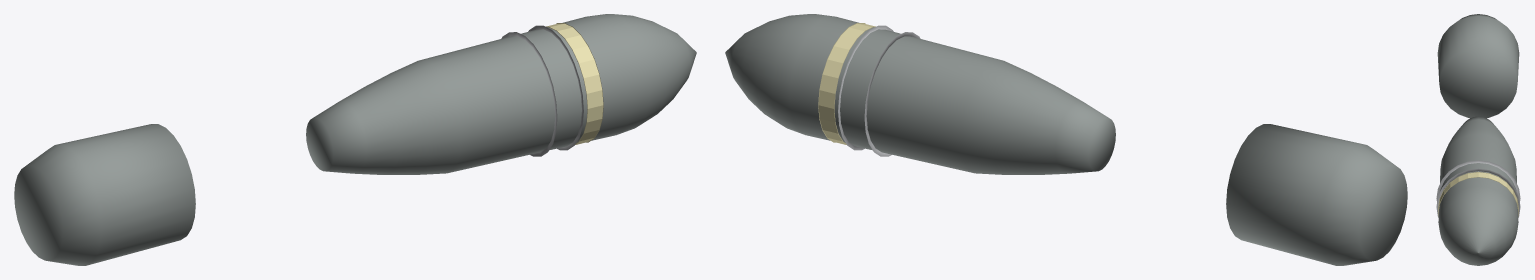
File: US_SLBM_Polaris_A1_LOD1.fbx
3 views of the same model, side by side, from view 1: azimuth 30°, elevation 25°; view 2: azimuth 150°, elevation 25°; view 3: azimuth 270°, elevation 25° (orthographic). The views are drawn at different scales.
Visible parts, largest first — view 1: WPN_US_SLBM_Polaris_A1_LOD1_Body, WPN_US_SLBM_Polaris_A1_LOD1_Tail, WPN_US_SLBM_Polaris_A1_LOD1_Marking, WPN_US_SLBM_Polaris_A1_LOD1_Detail; view 2: WPN_US_SLBM_Polaris_A1_LOD1_Body, WPN_US_SLBM_Polaris_A1_LOD1_Tail, WPN_US_SLBM_Polaris_A1_LOD1_Marking, WPN_US_SLBM_Polaris_A1_LOD1_Detail; view 3: WPN_US_SLBM_Polaris_A1_LOD1_Body, WPN_US_SLBM_Polaris_A1_LOD1_Tail, WPN_US_SLBM_Polaris_A1_LOD1_Detail, WPN_US_SLBM_Polaris_A1_LOD1_Marking.
Part boxes in pixels (bbox=[...]): WPN_US_SLBM_Polaris_A1_LOD1_Body: bbox=[306, 14, 696, 174]; WPN_US_SLBM_Polaris_A1_LOD1_Tail: bbox=[14, 124, 195, 265]; WPN_US_SLBM_Polaris_A1_LOD1_Marking: bbox=[546, 23, 603, 144]; WPN_US_SLBM_Polaris_A1_LOD1_Detail: bbox=[501, 25, 583, 156]; WPN_US_SLBM_Polaris_A1_LOD1_Body: bbox=[725, 14, 1115, 174]; WPN_US_SLBM_Polaris_A1_LOD1_Tail: bbox=[1226, 124, 1407, 265]; WPN_US_SLBM_Polaris_A1_LOD1_Marking: bbox=[818, 23, 875, 144]; WPN_US_SLBM_Polaris_A1_LOD1_Detail: bbox=[838, 25, 920, 156]; WPN_US_SLBM_Polaris_A1_LOD1_Body: bbox=[1438, 116, 1518, 265]; WPN_US_SLBM_Polaris_A1_LOD1_Tail: bbox=[1437, 14, 1519, 118]; WPN_US_SLBM_Polaris_A1_LOD1_Detail: bbox=[1436, 160, 1520, 217]; WPN_US_SLBM_Polaris_A1_LOD1_Marking: bbox=[1438, 172, 1518, 216].
Size of the model in its own units: 8.5 by 1.44 by 1.44.
